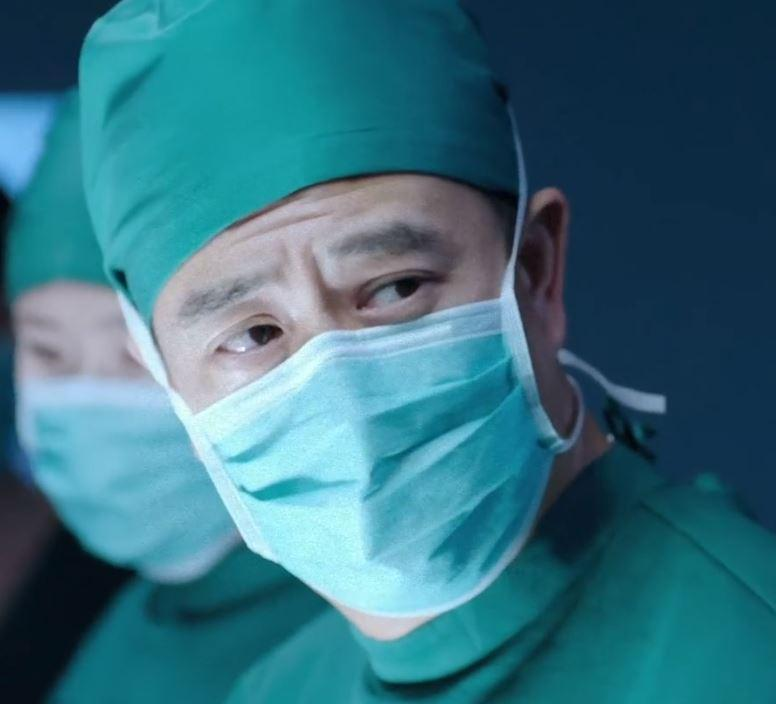OK: (168, 215, 558, 617), (13, 299, 246, 584)
